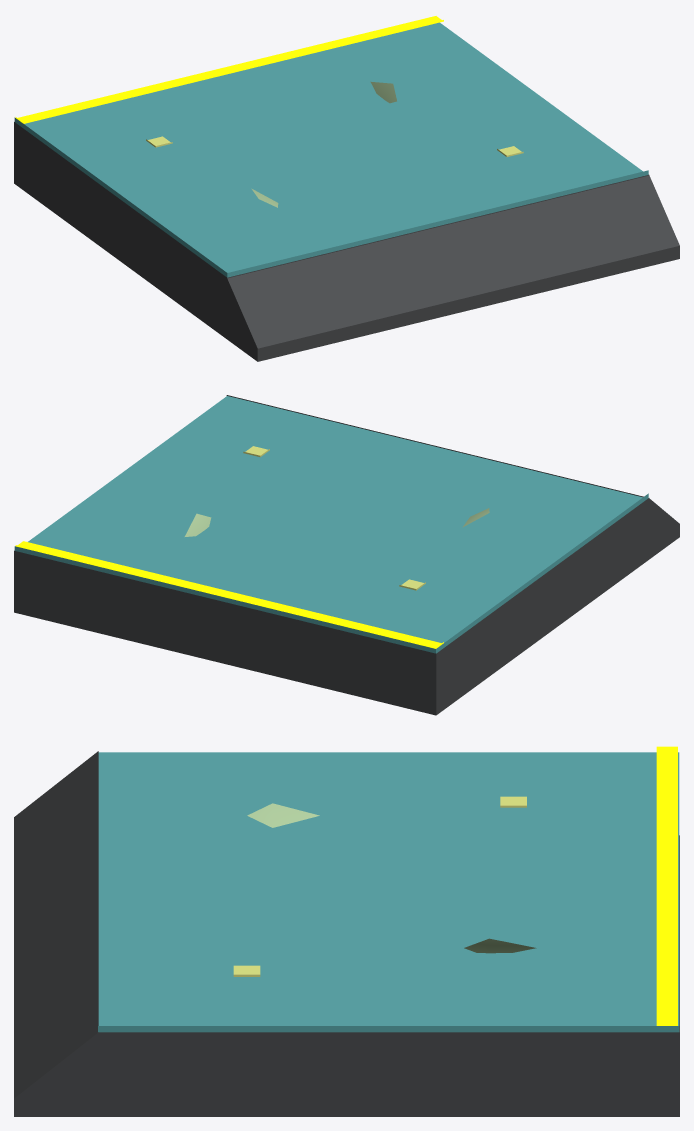
The model's file is tt_climb_mat_300_edge.glb.
3 views of the same model, one above another, from view 1: azimuth 30°, elevation 25°; view 2: azimuth 150°, elevation 25°; view 3: azimuth 270°, elevation 25° (orthographic). The views are drawn at different scales.
Visible parts, largest first — view 1: Mat_Cover, Mat_Core, Velcro_Seam_Flap, Leaf_Print; view 2: Mat_Cover, Mat_Core, Velcro_Seam_Flap, Leaf_Print; view 3: Mat_Cover, Mat_Core, Velcro_Seam_Flap, Leaf_Print, Ball_Dots.
Part boxes in pixels (left/top/right/bottom): Mat_Cover: left=14, top=22, right=648, bottom=277; Mat_Core: left=14, top=122, right=679, bottom=361; Velcro_Seam_Flap: left=15, top=16, right=443, bottom=123; Leaf_Print: left=251, top=81, right=396, bottom=207; Mat_Cover: left=14, top=396, right=648, bottom=653; Mat_Core: left=14, top=395, right=679, bottom=715; Velcro_Seam_Flap: left=15, top=541, right=443, bottom=648; Leaf_Print: left=184, top=508, right=489, bottom=536; Mat_Cover: left=98, top=752, right=679, bottom=1032; Mat_Core: left=14, top=751, right=679, bottom=1116; Velcro_Seam_Flap: left=656, top=746, right=677, bottom=1025; Leaf_Print: left=247, top=803, right=536, bottom=953; Ball_Dots: left=233, top=796, right=526, bottom=976.
Size of what is drawn, in the model's own units: 2 by 0.3412 by 2.
